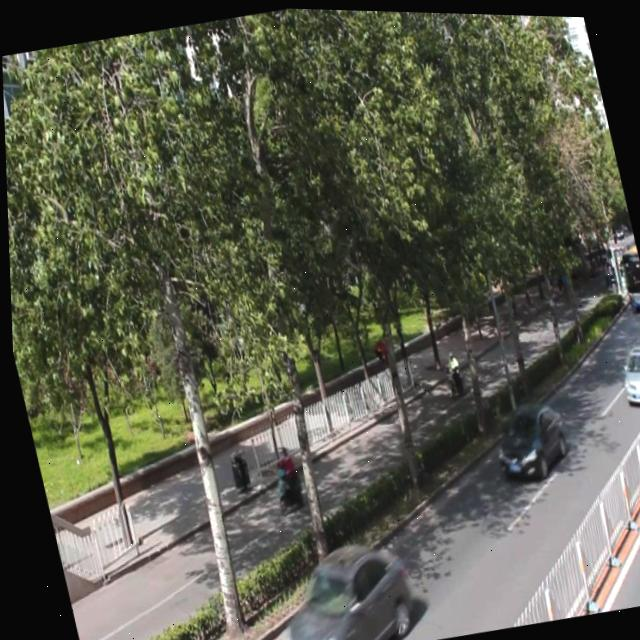car: (257, 532, 414, 640), (482, 393, 569, 484), (609, 337, 640, 406)
